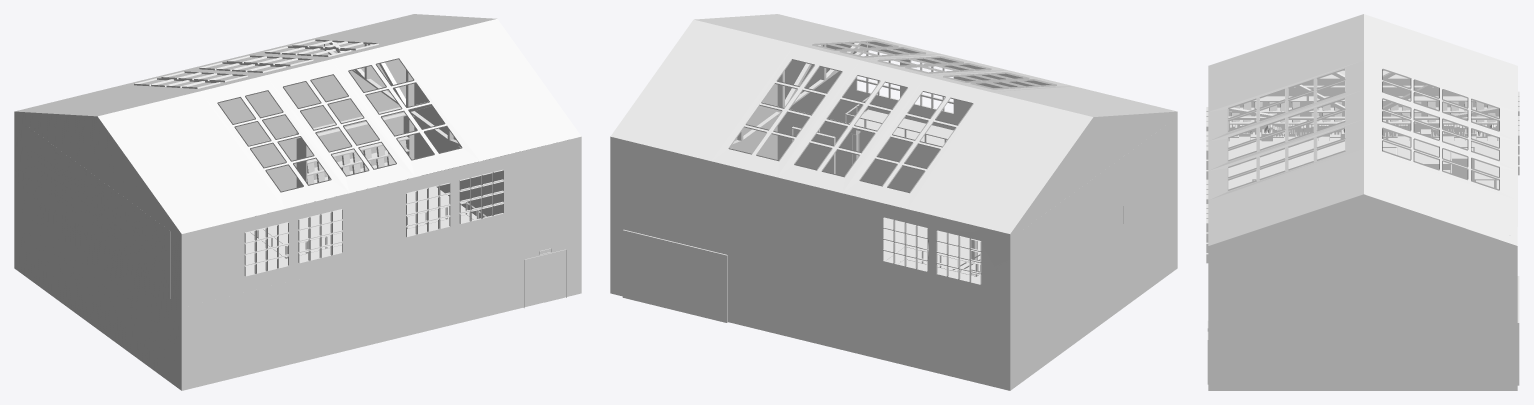
The picture shows the model from 3 angles, left to right: view 1: azimuth 30°, elevation 25°; view 2: azimuth 150°, elevation 25°; view 3: azimuth 270°, elevation 25°; orthographic projection. The views are drawn at different scales.
Visible parts, largest first — view 1: Object006; view 2: Object006; view 3: Object006.
Part boxes in pixels (bbox=[...]): Object006: bbox=[14, 14, 581, 390]; Object006: bbox=[610, 14, 1177, 390]; Object006: bbox=[1206, 14, 1519, 390].
Size of the model in its own units: 617 by 315 by 453.
Materials: 4 (4 with a texture image).
